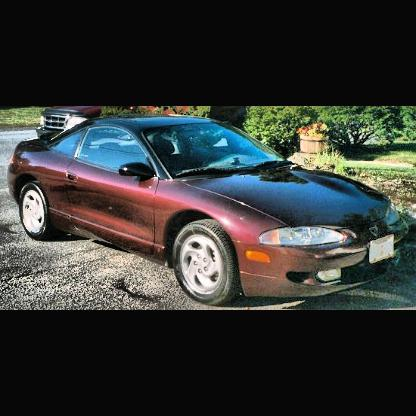Eagle Talon Hatchback 1998: (9, 117, 409, 306)
